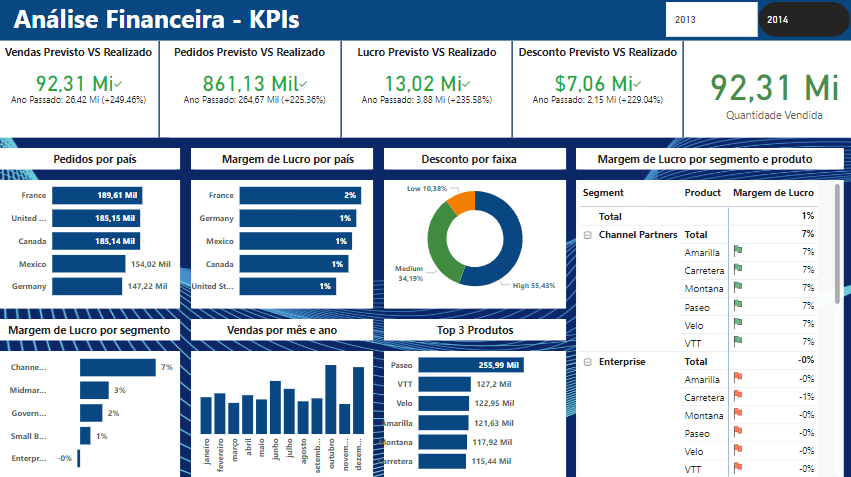

The dashboard page shown, as its layout file describes it:
{"tool":"powerbi","page":{"name":"Financeiro","canvas":[1280,720],"ordinal":0},"visuals":[{"type":"shape","box":[0,0,1280,64],"z":0},{"type":"shape","box":[0,64,1280,144],"z":1000},{"type":"shape","box":[0,272,272,192],"z":2000},{"type":"shape","box":[0,224,272,32],"z":3000},{"type":"shape","box":[0,528,272,192],"z":4000},{"type":"shape","box":[0,480,272,32],"z":5000},{"type":"shape","box":[288,272,272,192],"z":6000},{"type":"shape","box":[288,224,272,32],"z":7000},{"type":"shape","box":[576,272,272,192],"z":8000},{"type":"shape","box":[576,224,272,32],"z":9000},{"type":"shape","box":[288,528,272,192],"z":10000},{"type":"shape","box":[288,480,272,32],"z":11000},{"type":"shape","box":[576,528,272,192],"z":12000},{"type":"shape","box":[576,480,272,32],"z":13000},{"type":"shape","box":[864,224,400,32],"z":14000},{"type":"textbox","box":[0,0,880,64],"z":15000},{"type":"textbox","box":[16,224,256,48],"z":16000},{"type":"kpi","title":"Vendas I Previsto VS Realizado","fields":{"Indicator":["Análise.Quantidade Vendida"],"TrendLine":["Calendar.Ano"],"Goal":["Análise.Qtde Vendas Ano Passado"]},"box":[0,64,240,144],"z":17000},{"type":"kpi","title":"Vendas I Previsto VS Realizado","fields":{"TrendLine":["Calendar.Ano"],"Indicator":["Análise.Pedidos"],"Goal":["Análise.Pedidos Ano Passado"]},"box":[256,64,256,144],"z":18000},{"type":"kpi","title":"Vendas I Previsto VS Realizado","fields":{"TrendLine":["Calendar.Ano"],"Indicator":["Análise.Lucro"],"Goal":["Análise.Lucro Ano Passado"]},"box":[512,64,256,144],"z":19000},{"type":"kpi","title":"Vendas I Previsto VS Realizado","fields":{"TrendLine":["Calendar.Ano"],"Indicator":["Análise.Desconto Oferecido"],"Goal":["Análise.Descontos Ano Passado"]},"box":[768,64,256,144],"z":20000},{"type":"textbox","box":[768,64,256,32],"z":21000},{"type":"shape","box":[464,64,96,144],"z":22000},{"type":"shape","box":[720,64,96,144],"z":23000},{"type":"shape","box":[976,64,96,144],"z":24000},{"type":"shape","box":[192,64,96,144],"z":25000},{"type":"card","title":"Quantidade Vendida","fields":{"Values":["Análise.Quantidade Vendida"]},"box":[1040,64,240,144],"z":26000},{"type":"textbox","box":[256,64,240,48],"z":27000},{"type":"textbox","box":[512,64,256,48],"z":28000},{"type":"textbox","box":[0,64,240,32],"z":29000},{"type":"textbox","box":[0,480,272,32],"z":30000},{"type":"textbox","box":[304,224,256,48],"z":31000},{"type":"textbox","box":[592,224,224,48],"z":32000},{"type":"textbox","box":[880,224,352,48],"z":33000},{"type":"textbox","box":[576,480,272,32],"z":34000},{"type":"textbox","box":[288,480,272,32],"z":35000},{"type":"clusteredBarChart","fields":{"Category":["financials.Country"],"Y":["Análise.Pedidos"]},"box":[0,256,272,208],"z":36000},{"type":"clusteredBarChart","fields":{"Category":["financials.Country"],"Y":["Análise.Margem de Lucro"]},"box":[272,256,304,208],"z":37000},{"type":"clusteredBarChart","fields":{"Y":["Análise.Margem de Lucro"],"Category":["financials.Segment"]},"box":[0,512,272,208],"z":38000},{"type":"columnChart","fields":{"Category":["Calendar.Date.Variation.Hierarquia de datas.Ano","Calendar.Date.Variation.Hierarquia de datas.Mês"],"Y":["Análise.Quantidade Vendida"]},"box":[288,512,272,208],"z":39000},{"type":"donutChart","fields":{"Category":["financials.Discount Band"],"Y":["Análise.Desconto Oferecido"]},"box":[576,256,272,208],"z":40000},{"type":"clusteredBarChart","fields":{"Y":["Análise.Pedidos"],"Category":["financials.Product"]},"box":[560,512,288,208],"z":41000},{"type":"pivotTable","fields":{"Rows":["financials.Segment","financials.Product"],"Values":["Análise.Margem de Lucro"]},"box":[864,272,400,448],"z":42000},{"type":"advancedSlicerVisual","fields":{"Values":["Calendar.Ano"]},"box":[992,0,288,64],"z":43000}]}

Visuals, with their boxes in screenshot pixels (x1, y1, x2, y2), scaled from the page's 1280x720 canvas onto the 851x477 screenshot:
shape: bbox=[0, 0, 850, 42]
shape: bbox=[0, 42, 850, 138]
shape: bbox=[0, 180, 181, 307]
shape: bbox=[0, 148, 181, 170]
shape: bbox=[0, 350, 181, 476]
shape: bbox=[0, 318, 181, 339]
shape: bbox=[191, 180, 372, 307]
shape: bbox=[191, 148, 372, 170]
shape: bbox=[383, 180, 564, 307]
shape: bbox=[383, 148, 564, 170]
shape: bbox=[191, 350, 372, 476]
shape: bbox=[191, 318, 372, 339]
shape: bbox=[383, 350, 564, 476]
shape: bbox=[383, 318, 564, 339]
shape: bbox=[574, 148, 840, 170]
textbox: bbox=[0, 0, 585, 42]
textbox: bbox=[11, 148, 181, 180]
"Vendas I Previsto VS Realizado" kpi: bbox=[0, 42, 160, 138]
"Vendas I Previsto VS Realizado" kpi: bbox=[170, 42, 340, 138]
"Vendas I Previsto VS Realizado" kpi: bbox=[340, 42, 511, 138]
"Vendas I Previsto VS Realizado" kpi: bbox=[511, 42, 681, 138]
textbox: bbox=[511, 42, 681, 64]
shape: bbox=[308, 42, 372, 138]
shape: bbox=[479, 42, 543, 138]
shape: bbox=[649, 42, 713, 138]
shape: bbox=[128, 42, 191, 138]
"Quantidade Vendida" card: bbox=[691, 42, 850, 138]
textbox: bbox=[170, 42, 330, 74]
textbox: bbox=[340, 42, 511, 74]
textbox: bbox=[0, 42, 160, 64]
textbox: bbox=[0, 318, 181, 339]
textbox: bbox=[202, 148, 372, 180]
textbox: bbox=[394, 148, 543, 180]
textbox: bbox=[585, 148, 819, 180]
textbox: bbox=[383, 318, 564, 339]
textbox: bbox=[191, 318, 372, 339]
clusteredBarChart - financials.Country x Análise.Pedidos: bbox=[0, 170, 181, 307]
clusteredBarChart - financials.Country x Análise.Margem de Lucro: bbox=[181, 170, 383, 307]
clusteredBarChart - Análise.Margem de Lucro x financials.Segment: bbox=[0, 339, 181, 476]
columnChart - Calendar.Date.Variation.Hierarquia de datas.Ano x Calendar.Date.Variation.Hierarquia de datas.Mês: bbox=[191, 339, 372, 476]
donutChart - financials.Discount Band x Análise.Desconto Oferecido: bbox=[383, 170, 564, 307]
clusteredBarChart - Análise.Pedidos x financials.Product: bbox=[372, 339, 564, 476]
pivotTable - financials.Segment x financials.Product: bbox=[574, 180, 840, 476]
advancedSlicerVisual - Calendar.Ano: bbox=[660, 0, 850, 42]
